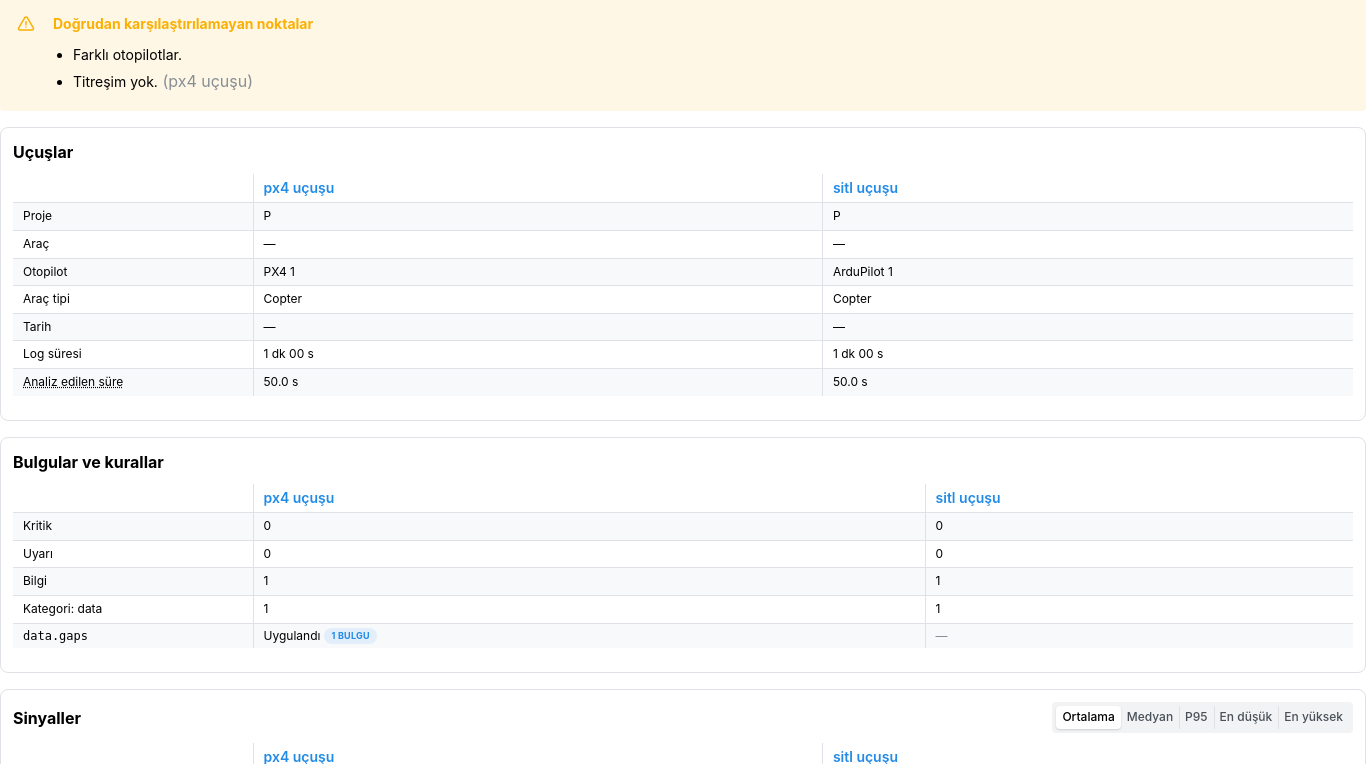
Test: ComparisonView › shows notes, values per flight and missing data
The image size is (1366, 764).
Expected: the text "Farklı otopilotlar." is shown, [73,45,182,65]
Expected: the text "(px4 uçuşu)" is shown, [158,71,253,91]
Step 1. Click the text "P95" → [1196, 717], box [1185,709,1208,724]
(page scrolled)
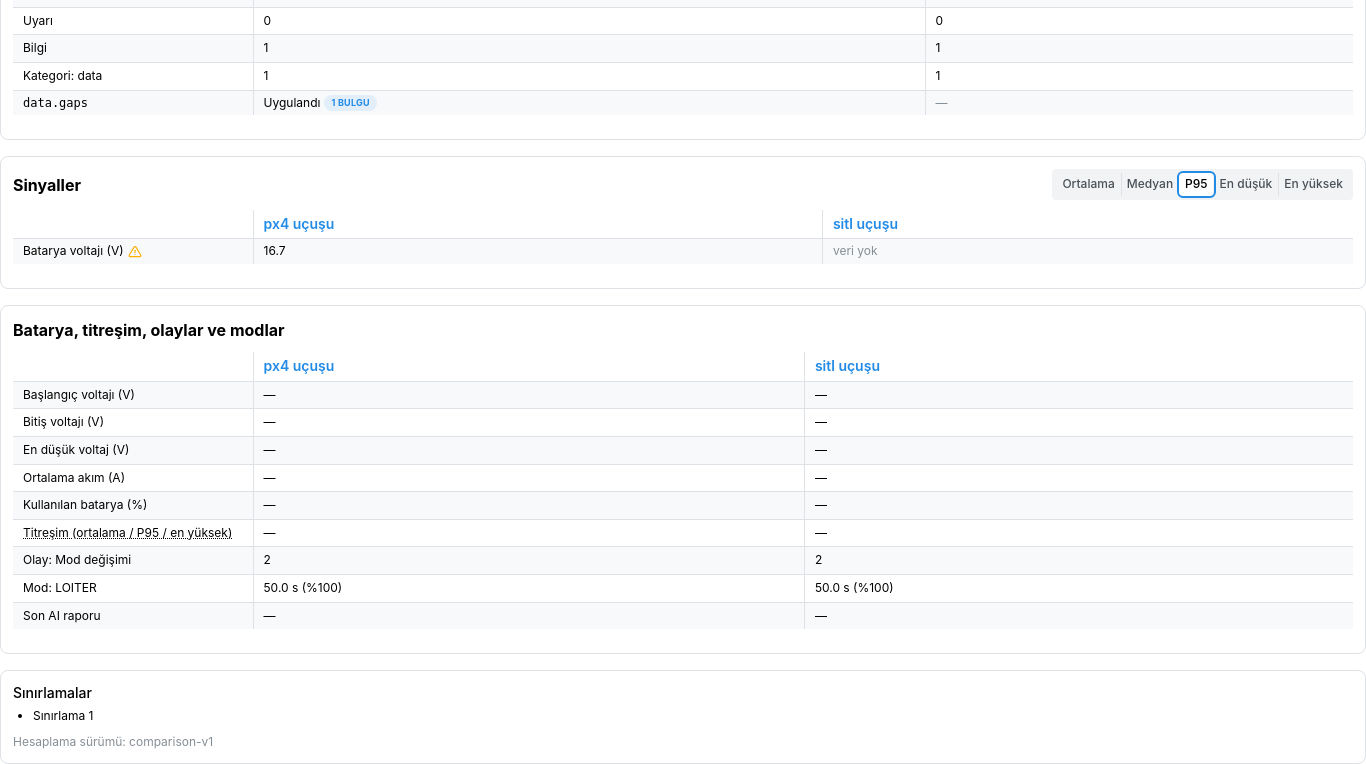
Expected: the text "Mod: LOITER" is shown, [13,574,253,602]
Now the text "16.7" is shown, box [264,244,286,258]
